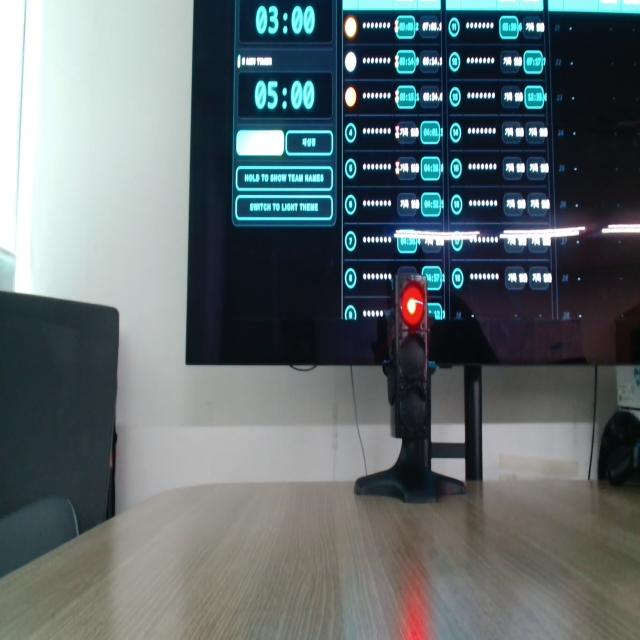red_light: (401, 283, 425, 328)
